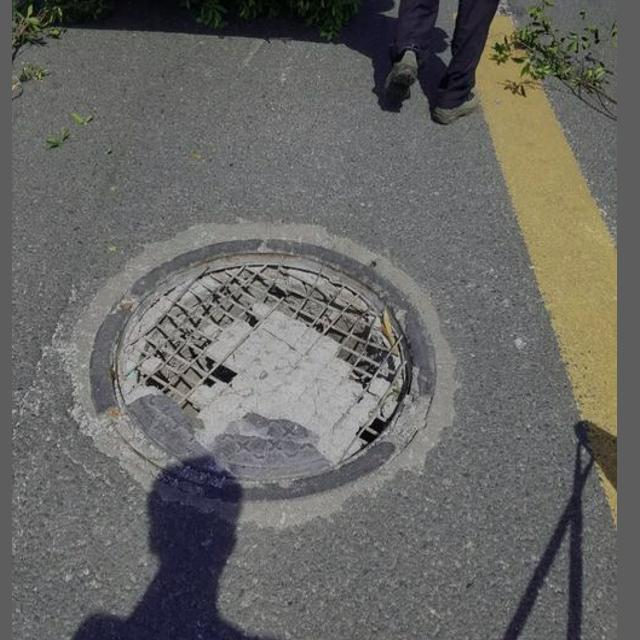broke: (74, 217, 458, 520)
